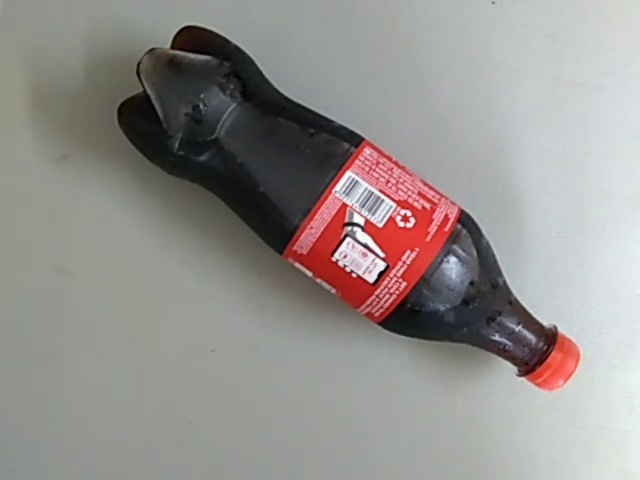Cocacola: (97, 12, 592, 398)
